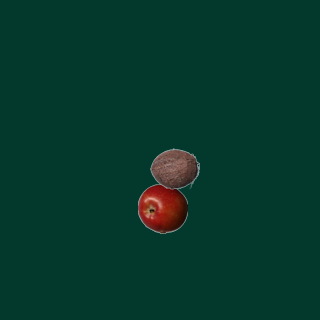Apple Braeburn: (137, 183, 187, 233)
Cocos: (149, 143, 199, 193)
